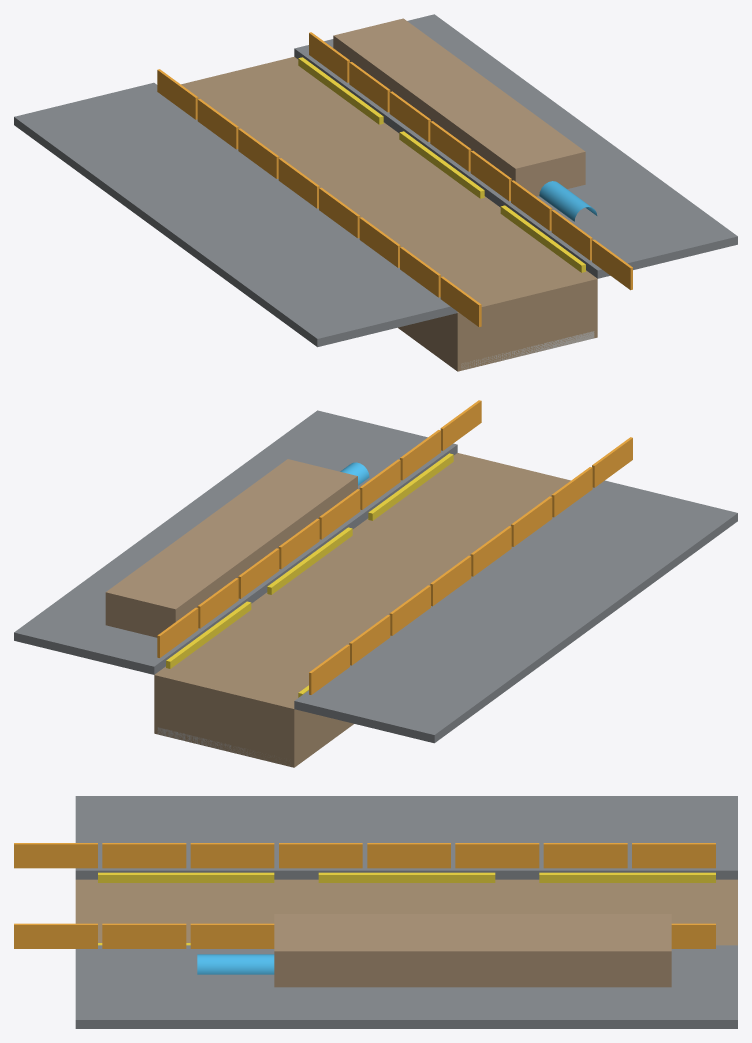
Rendered from water_pipeline_trench.glb.
3 views of the same model, one above another, from view 1: azimuth 30°, elevation 25°; view 2: azimuth 150°, elevation 25°; view 3: azimuth 270°, elevation 25° (orthographic). The views are drawn at different scales.
Parts seen in each view (by area): view 1: RoadAsphaltLeft, TrenchExcavatedEarth, RoadAsphaltRight, ExcavatedSoilBerm, StagedWaterPipe_4, TrenchGuardL_-10, TrenchGuardL_14, TrenchGuardR_-6, ShoringPlateR_10, ShoringPlateR_-10, ShoringPlateR_0, TrenchGuardL_-14 (+13 smaller); view 2: RoadAsphaltLeft, TrenchExcavatedEarth, RoadAsphaltRight, ExcavatedSoilBerm, TrenchGuardL_6, TrenchGuardR_-14, TrenchGuardR_-6, TrenchGuardR_2, ShoringPlateR_-10, ShoringPlateR_10, ShoringPlateR_0, TrenchGuardL_-10 (+12 smaller); view 3: RoadAsphaltLeft, RoadAsphaltRight, ExcavatedSoilBerm, TrenchExcavatedEarth, TrenchGuardL_-10, TrenchGuardL_-6, TrenchGuardL_10, TrenchGuardR_10, TrenchGuardL_6, TrenchGuardR_6, TrenchGuardL_-14, TrenchGuardL_-2 (+8 smaller).
Boxes of the visible parts, box(x1,y1,x2,y2) form: RoadAsphaltLeft: box(14, 82, 457, 347); TrenchExcavatedEarth: box(181, 56, 597, 371); RoadAsphaltRight: box(294, 14, 737, 278); ExcavatedSoilBerm: box(333, 18, 585, 196); StagedWaterPipe_4: box(539, 181, 597, 221); TrenchGuardL_-10: box(197, 99, 238, 149); TrenchGuardL_14: box(440, 276, 481, 326); TrenchGuardR_-6: box(389, 91, 430, 141); ShoringPlateR_10: box(500, 205, 585, 272); ShoringPlateR_-10: box(298, 57, 383, 124); ShoringPlateR_0: box(399, 131, 484, 198); TrenchGuardL_-14: box(157, 69, 198, 119); RoadAsphaltLeft: box(294, 480, 737, 743); TrenchExcavatedEarth: box(154, 453, 570, 767); RoadAsphaltRight: box(14, 410, 457, 674); ExcavatedSoilBerm: box(105, 459, 357, 637); TrenchGuardL_6: box(511, 496, 552, 546); TrenchGuardR_-14: box(157, 607, 198, 657); TrenchGuardR_-6: box(238, 548, 279, 598); TrenchGuardR_2: box(319, 489, 360, 539); ShoringPlateR_-10: box(166, 601, 251, 668); ShoringPlateR_10: box(368, 453, 453, 520); ShoringPlateR_0: box(267, 527, 352, 594); TrenchGuardL_-10: box(349, 615, 390, 665); RoadAsphaltLeft: box(75, 796, 737, 879); RoadAsphaltRight: box(75, 945, 737, 1028); ExcavatedSoilBerm: box(274, 914, 671, 987); TrenchExcavatedEarth: box(75, 879, 737, 945); TrenchGuardL_-10: box(543, 843, 627, 868); TrenchGuardL_-6: box(455, 843, 539, 868); TrenchGuardL_10: box(102, 843, 186, 868); TrenchGuardR_10: box(102, 923, 186, 948); TrenchGuardL_6: box(190, 843, 274, 868); TrenchGuardR_6: box(190, 923, 274, 948); TrenchGuardL_-14: box(632, 843, 715, 868); TrenchGuardL_-2: box(367, 843, 450, 868).
Size of the model in its own units: 24 by 5.45 by 32.8.
